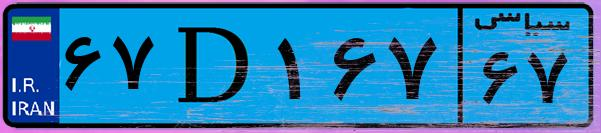1: (270, 28, 330, 110)
6: (330, 28, 385, 110), (57, 26, 110, 100), (475, 38, 525, 113)
7: (385, 28, 445, 110), (525, 38, 570, 115), (110, 28, 158, 98)
D: (158, 12, 270, 120)
